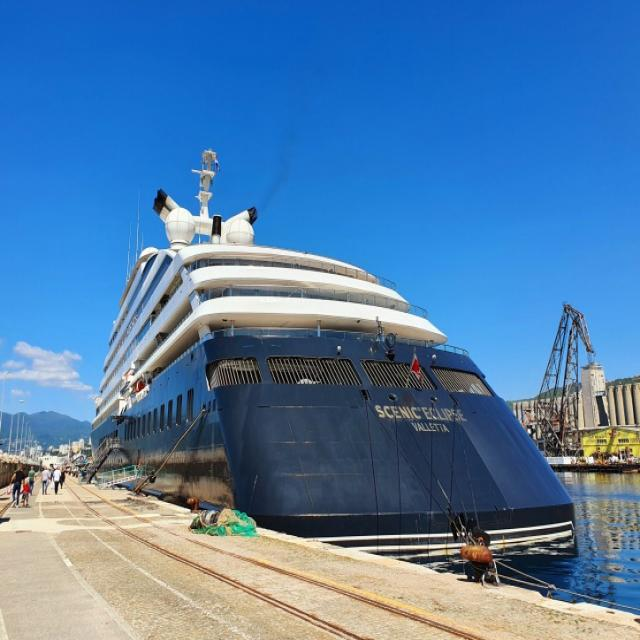cruises: (80, 144, 584, 577)
